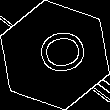O_W: (25, 29, 85, 81)
